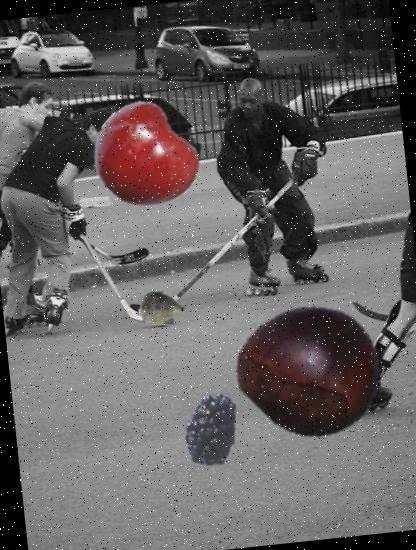Beetroot: (135, 280, 192, 337)
Cherry: (86, 99, 205, 218)
Chestnut: (236, 292, 390, 447)
Mulberry: (158, 389, 248, 478)
